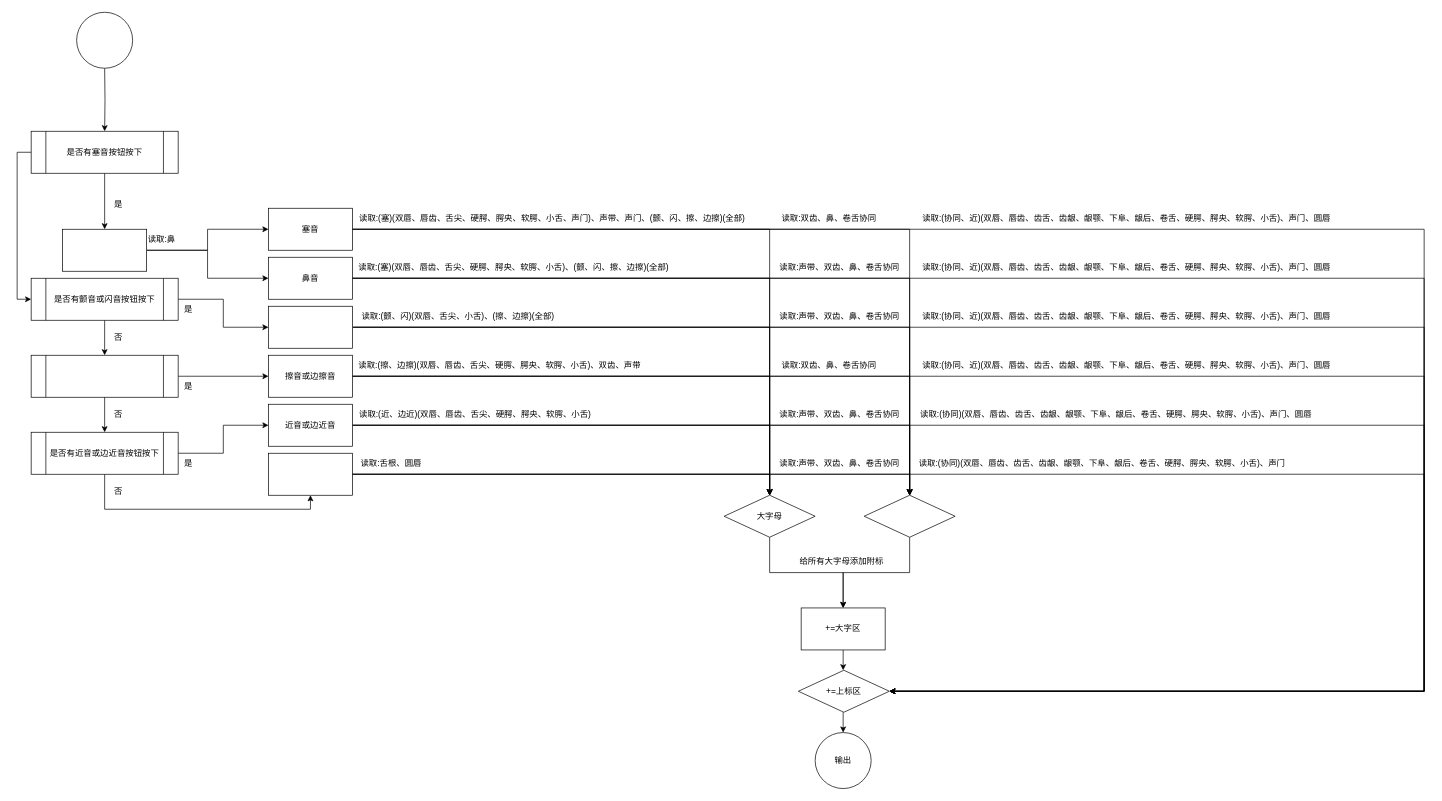
Image size: 1442x801. Some labels were removed from this diagram. The box of each missing label's shape, as (x1, y1, x2, y2) in pixels:
元音: (268, 453, 352, 495)
塞音或鼻音: (62, 229, 147, 271)
字母附标: (863, 495, 955, 537)
开始: (76, 12, 133, 68)
是否有擦音或边擦音按钮按下: (30, 355, 178, 397)
颤音或闪音: (268, 306, 352, 348)
